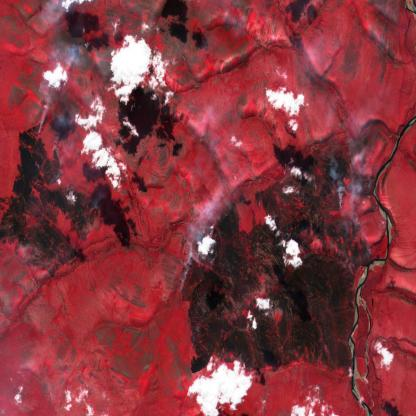fire: (30, 108, 128, 258), (310, 144, 376, 268), (174, 221, 219, 314)
